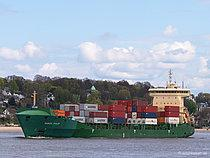Ship: (12, 67, 200, 144)
